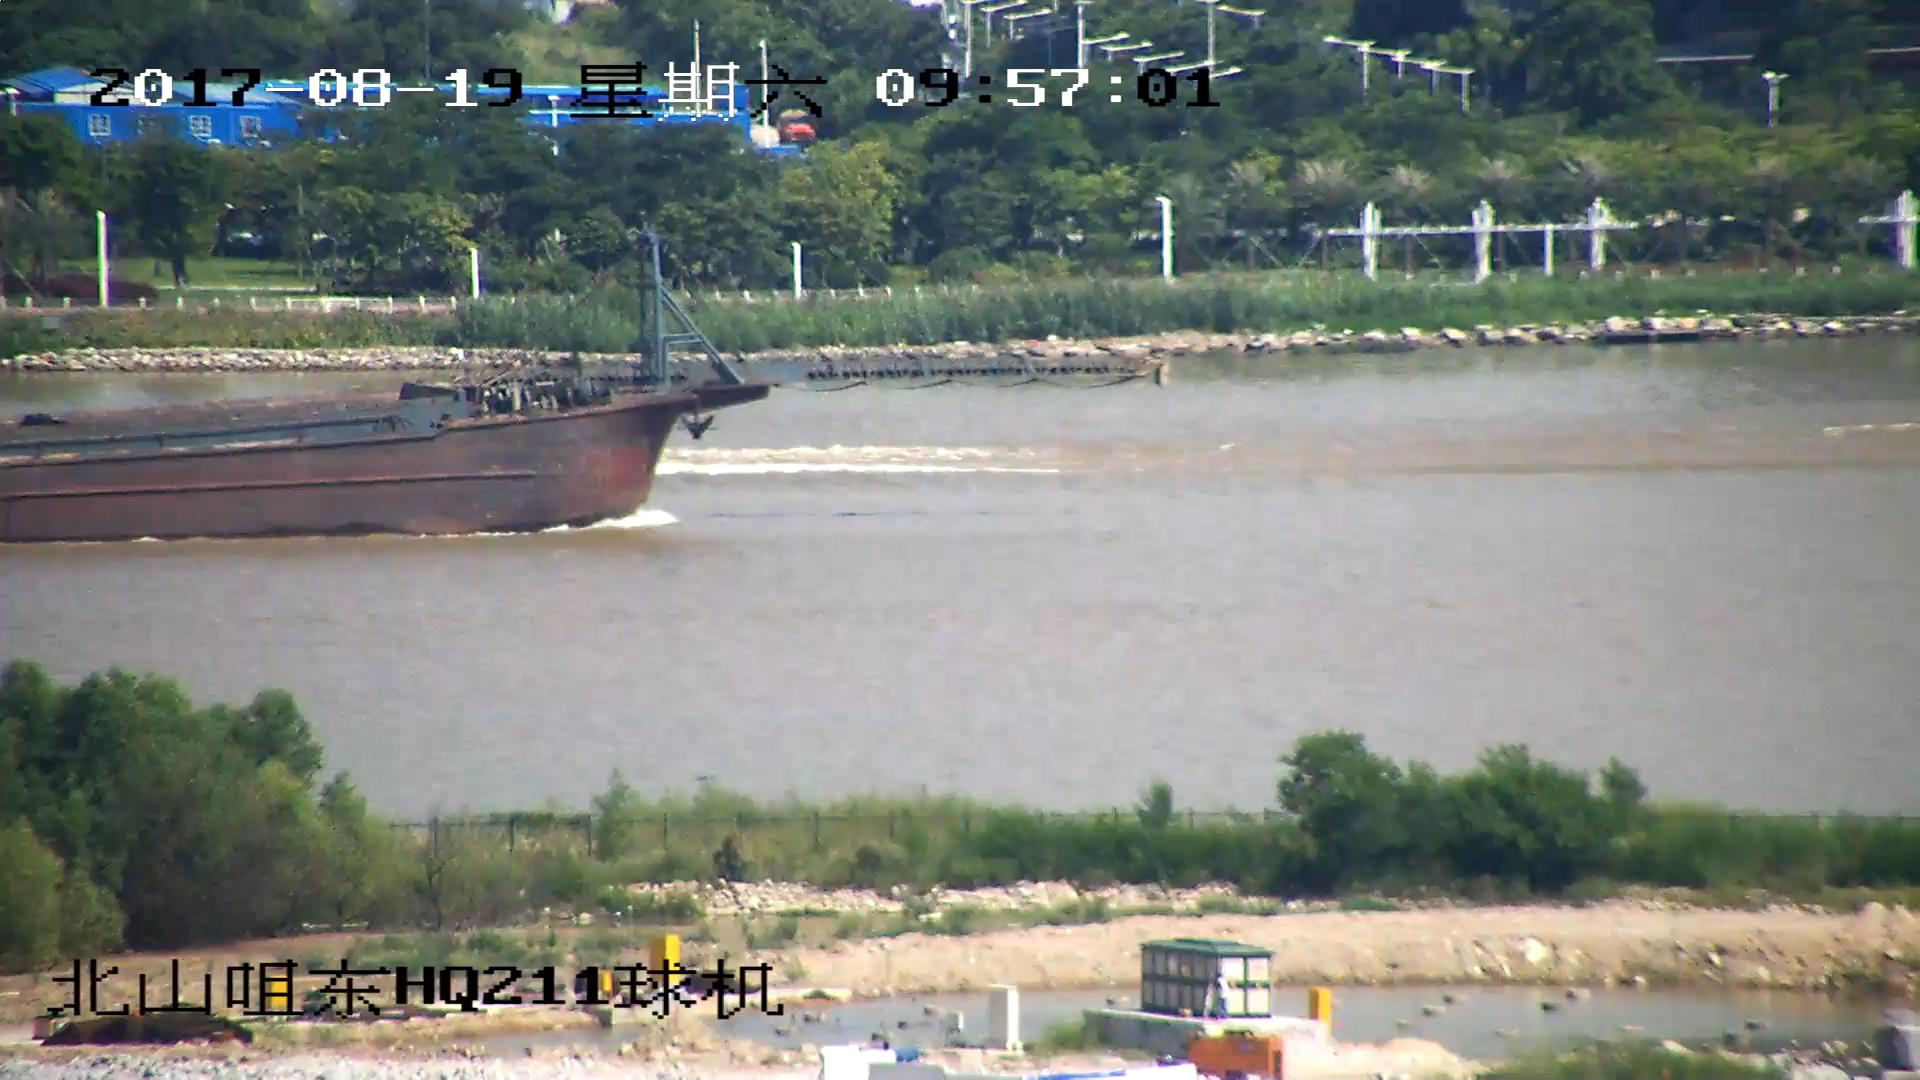bulk cargo carrier: (1, 223, 1161, 543)
